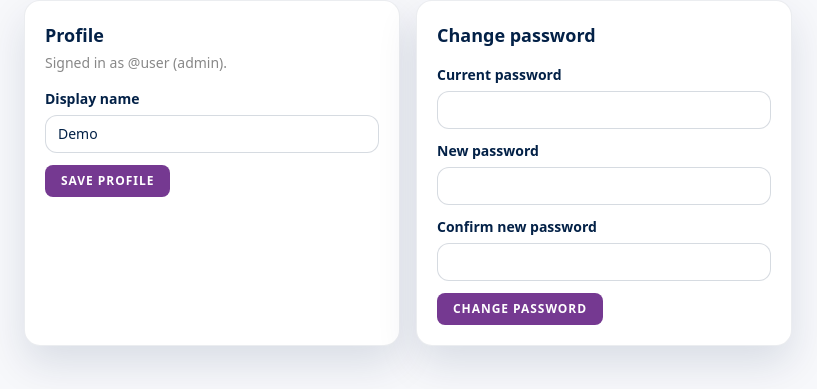
Test: AccountSettings › saves the display name
Replace the text in the field labelled "Display name" with " Josef ". click: [212, 134]
box: [45,115,379,153]
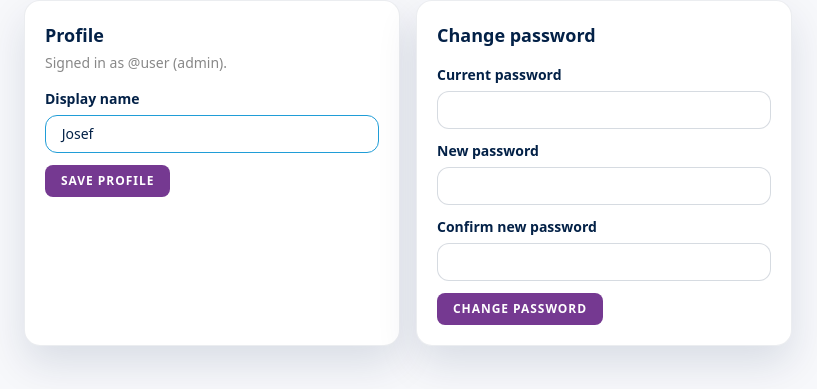
Click the button "Save profile". click: [108, 181]
box: [45,165,170,197]
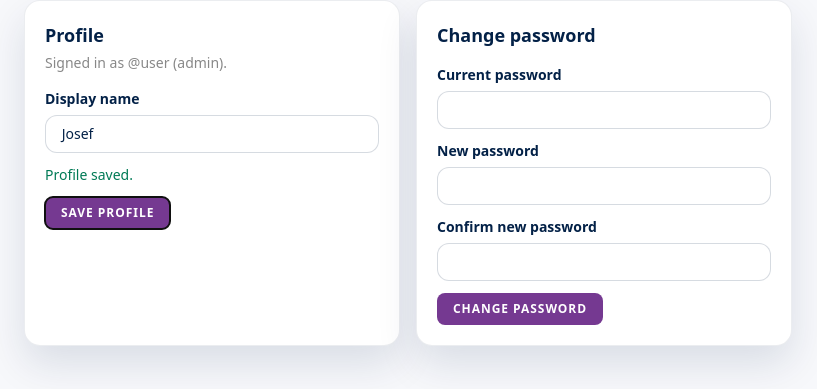
expect the text "Profile saved." is shown: met, box [45,165,133,184]
